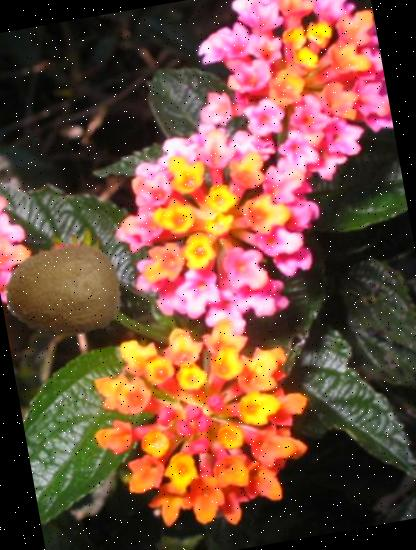Kiwi: (0, 221, 133, 357)
